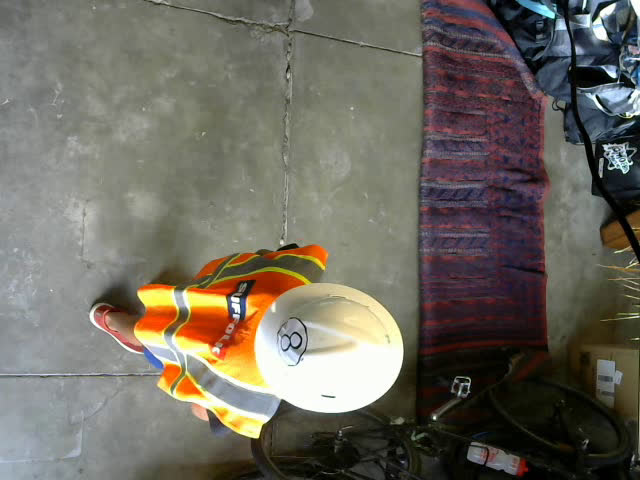eight: (276, 317, 308, 368)
